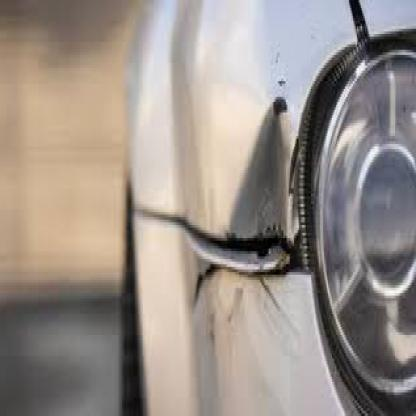dent: (192, 80, 307, 344)
